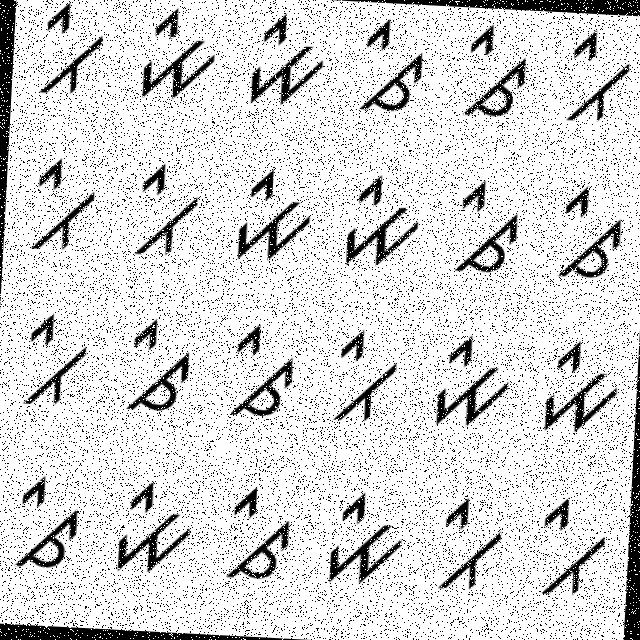bi: (14, 150, 108, 262), (117, 152, 210, 264), (528, 491, 613, 612), (321, 318, 406, 437), (22, 0, 116, 103), (8, 304, 94, 416), (422, 490, 508, 602), (560, 20, 640, 134)
ci: (0, 457, 92, 580), (444, 172, 530, 286), (346, 11, 435, 120), (542, 182, 631, 290), (220, 312, 304, 425), (451, 19, 534, 125), (118, 311, 198, 420), (214, 479, 296, 585)
mi: (332, 166, 436, 275), (308, 486, 408, 592), (225, 162, 319, 274), (530, 333, 624, 441), (234, 8, 330, 110), (424, 329, 516, 434), (104, 474, 195, 578), (128, 4, 222, 104)
